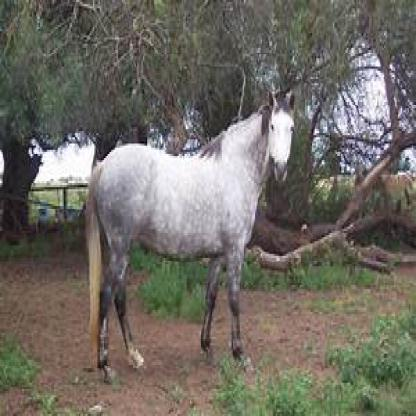horse: (82, 93, 297, 382)
